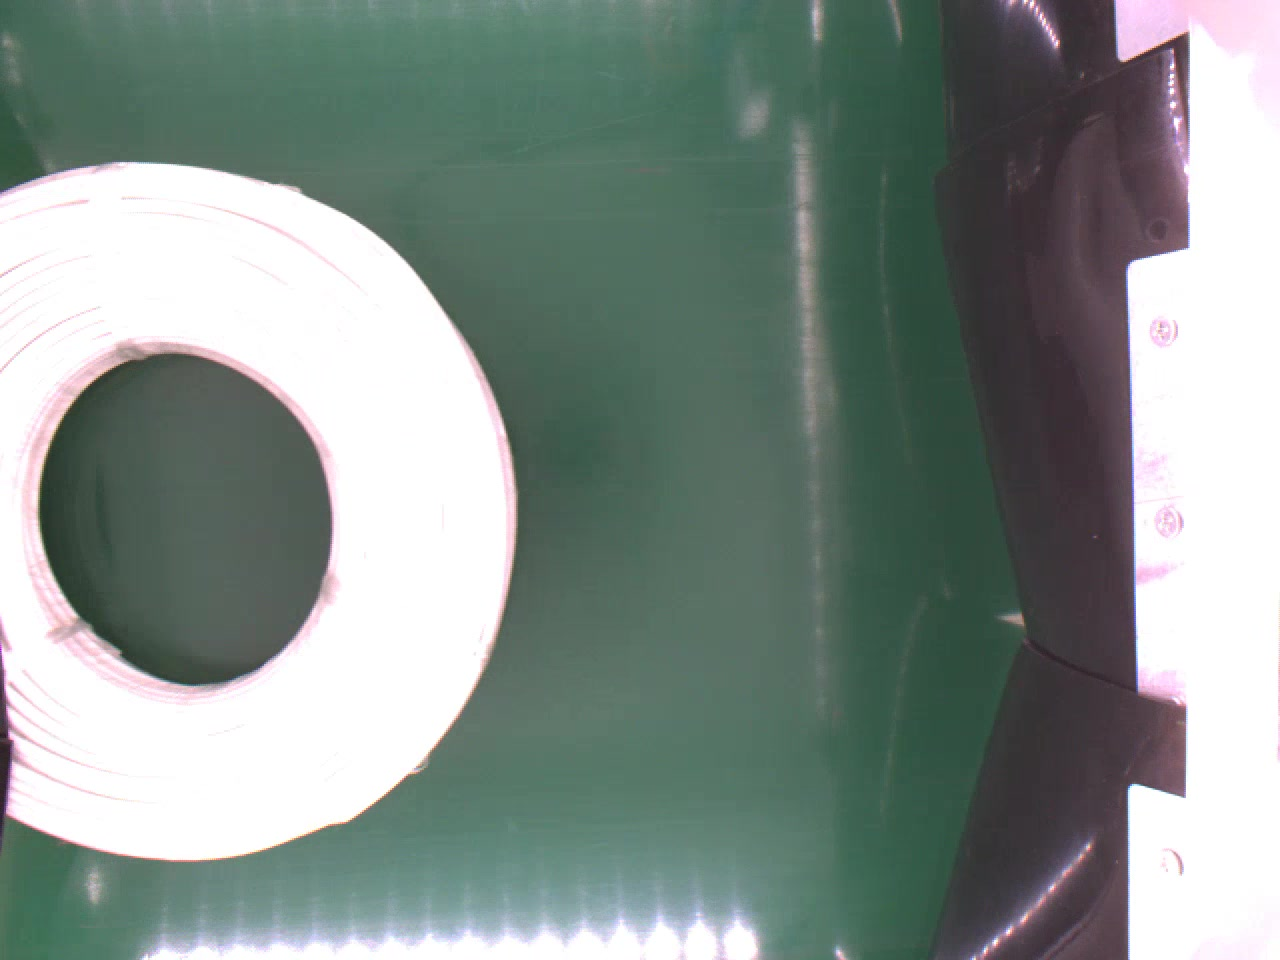white: (0, 155, 524, 867)
